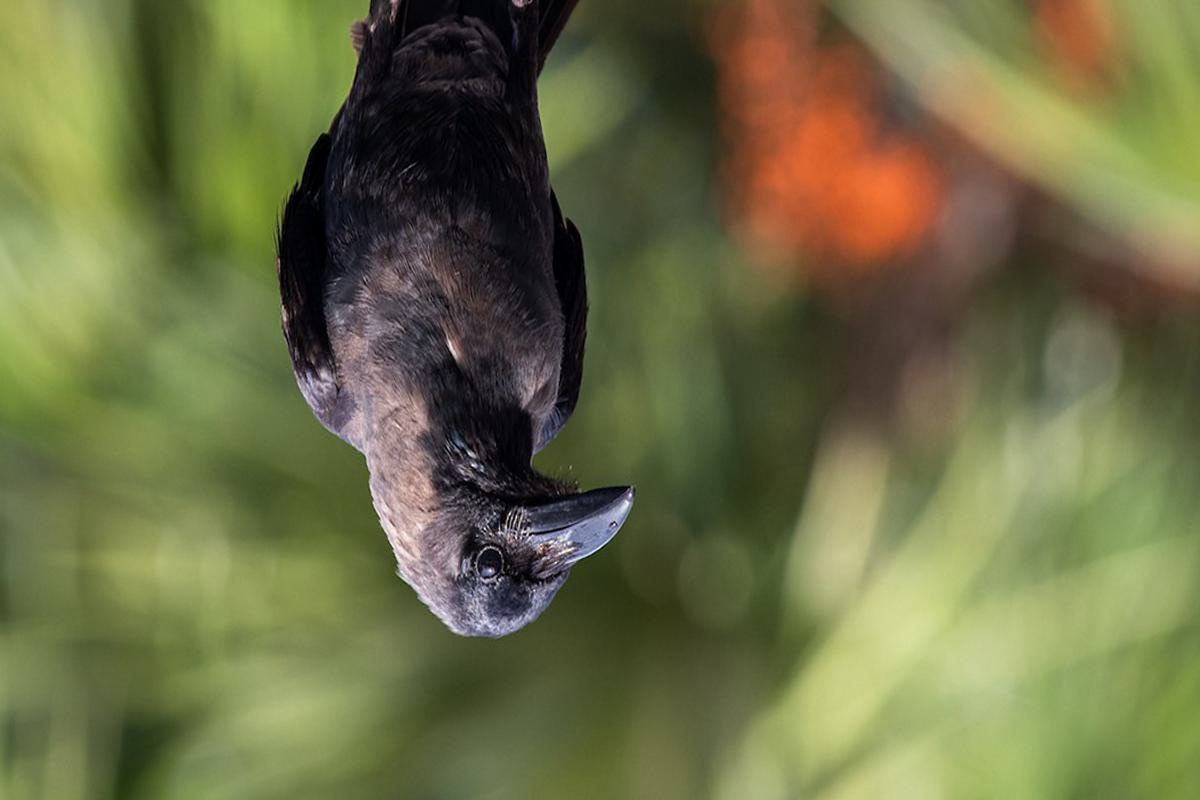crow: (247, 1, 650, 653)
